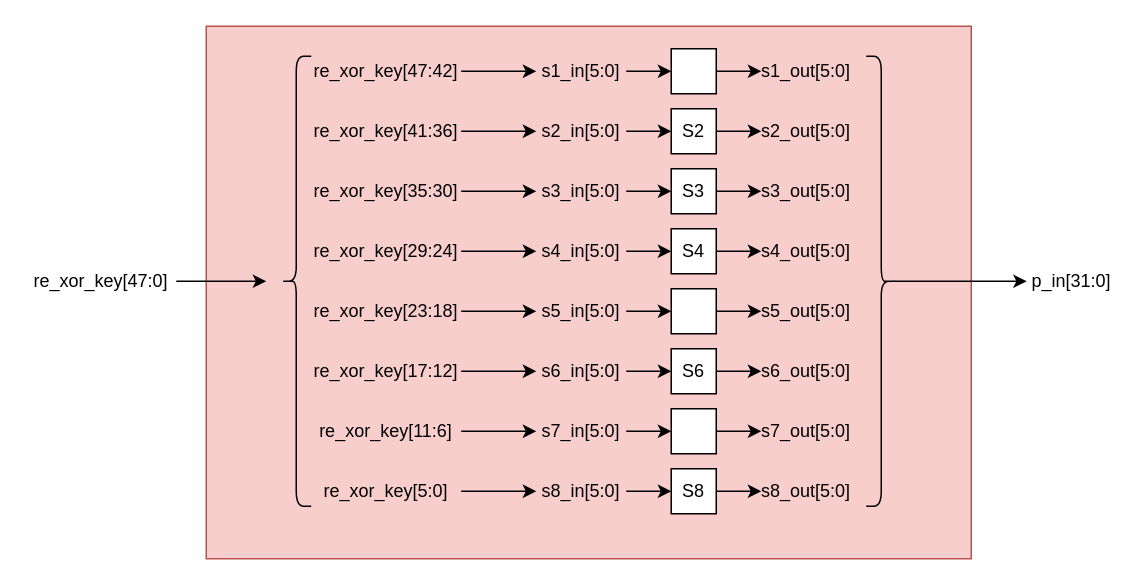
Some shapes in this 1142 by 585 pixel diagram are drawn without their labels. Here are the shapes that lost their labels. From the top down, the centre of each, then its label:
At [693,70]: "S1".
At [693,310]: "S5".
At [693,430]: "S7".
